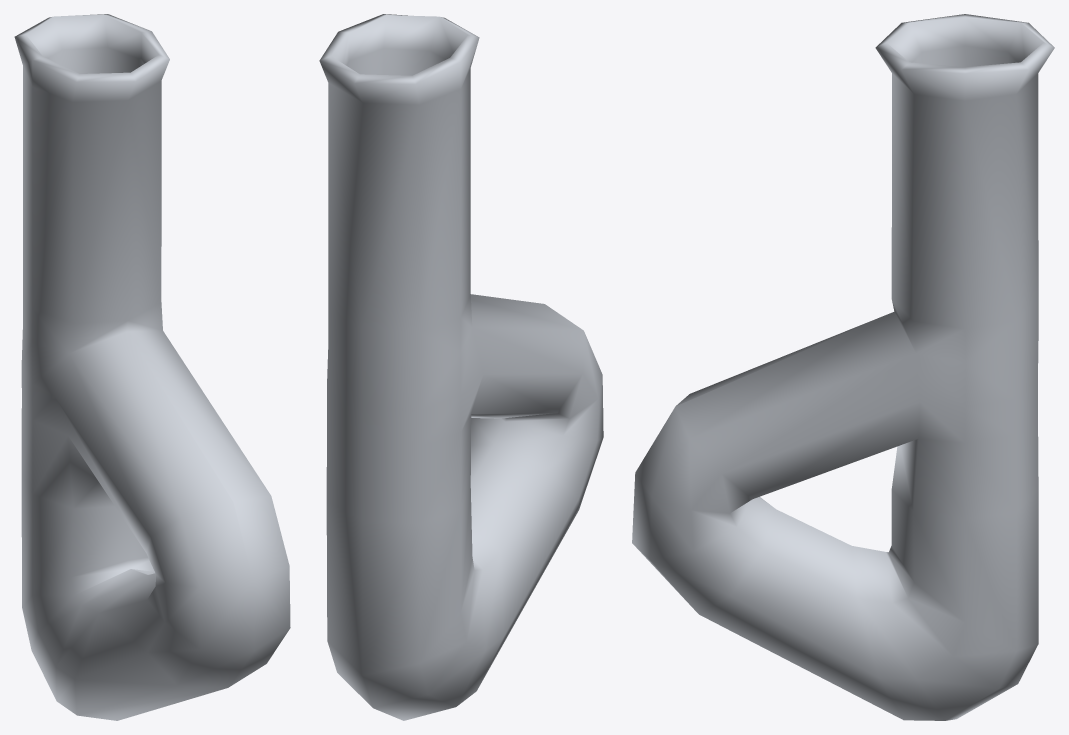
The model's file is bottle_glassware_thiele_tube.glb.
The picture shows the model from 3 angles, left to right: view 1: azimuth 30°, elevation 25°; view 2: azimuth 150°, elevation 25°; view 3: azimuth 270°, elevation 25°; orthographic projection. The views are drawn at different scales.
Parts seen in each view (by area): view 1: bottle_glassware_thiele_tube; view 2: bottle_glassware_thiele_tube; view 3: bottle_glassware_thiele_tube.
Part boxes in pixels (x1,y1,x2,y2): bottle_glassware_thiele_tube: (14,14,290,720); bottle_glassware_thiele_tube: (319,14,603,720); bottle_glassware_thiele_tube: (632,14,1054,720).
Size of the model in its own units: 4.54 by 23.93 by 13.56.
1 material, 1 textured.
